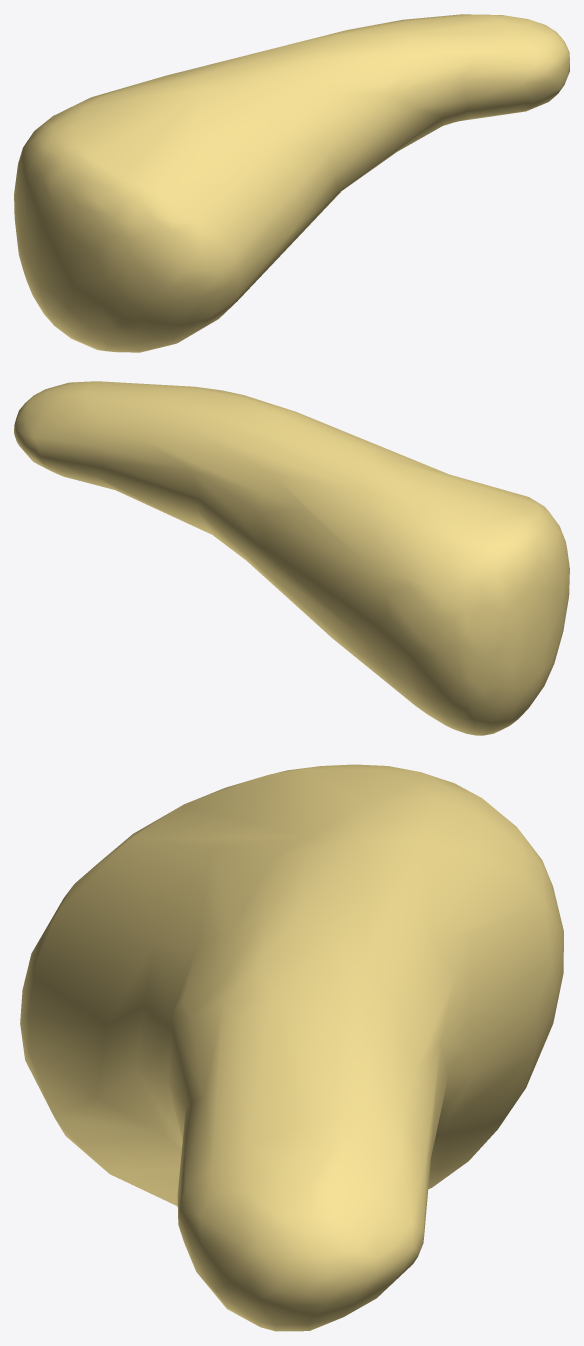
Rendered from fma73461.glb.
The picture shows the model from 3 angles, top to bottom: view 1: azimuth 30°, elevation 25°; view 2: azimuth 150°, elevation 25°; view 3: azimuth 270°, elevation 25°; orthographic projection. The views are drawn at different scales.
Visible parts, largest first — view 1: FMA73461; view 2: FMA73461; view 3: FMA73461.
Part boxes in pixels (x1=…): FMA73461: x1=14, y1=14, x2=569, y2=352; FMA73461: x1=14, y1=381, x2=569, y2=735; FMA73461: x1=20, y1=764, x2=563, y2=1331.
Bounding box in the file's own units: 0.0143 × 0.00653 × 0.00646.
